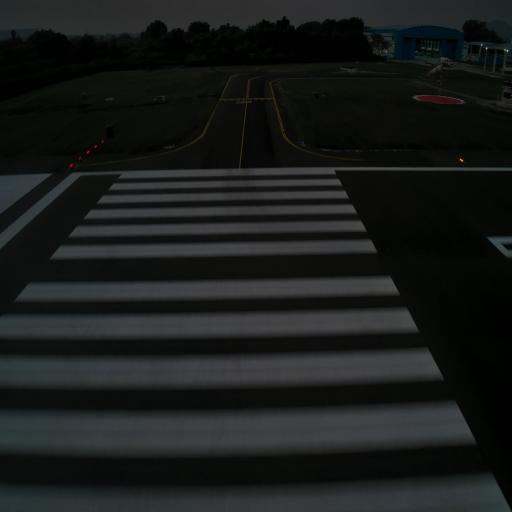on: (457, 154, 465, 166), (86, 147, 91, 156), (70, 161, 74, 170), (78, 154, 82, 163), (100, 138, 105, 145), (94, 143, 97, 150)
